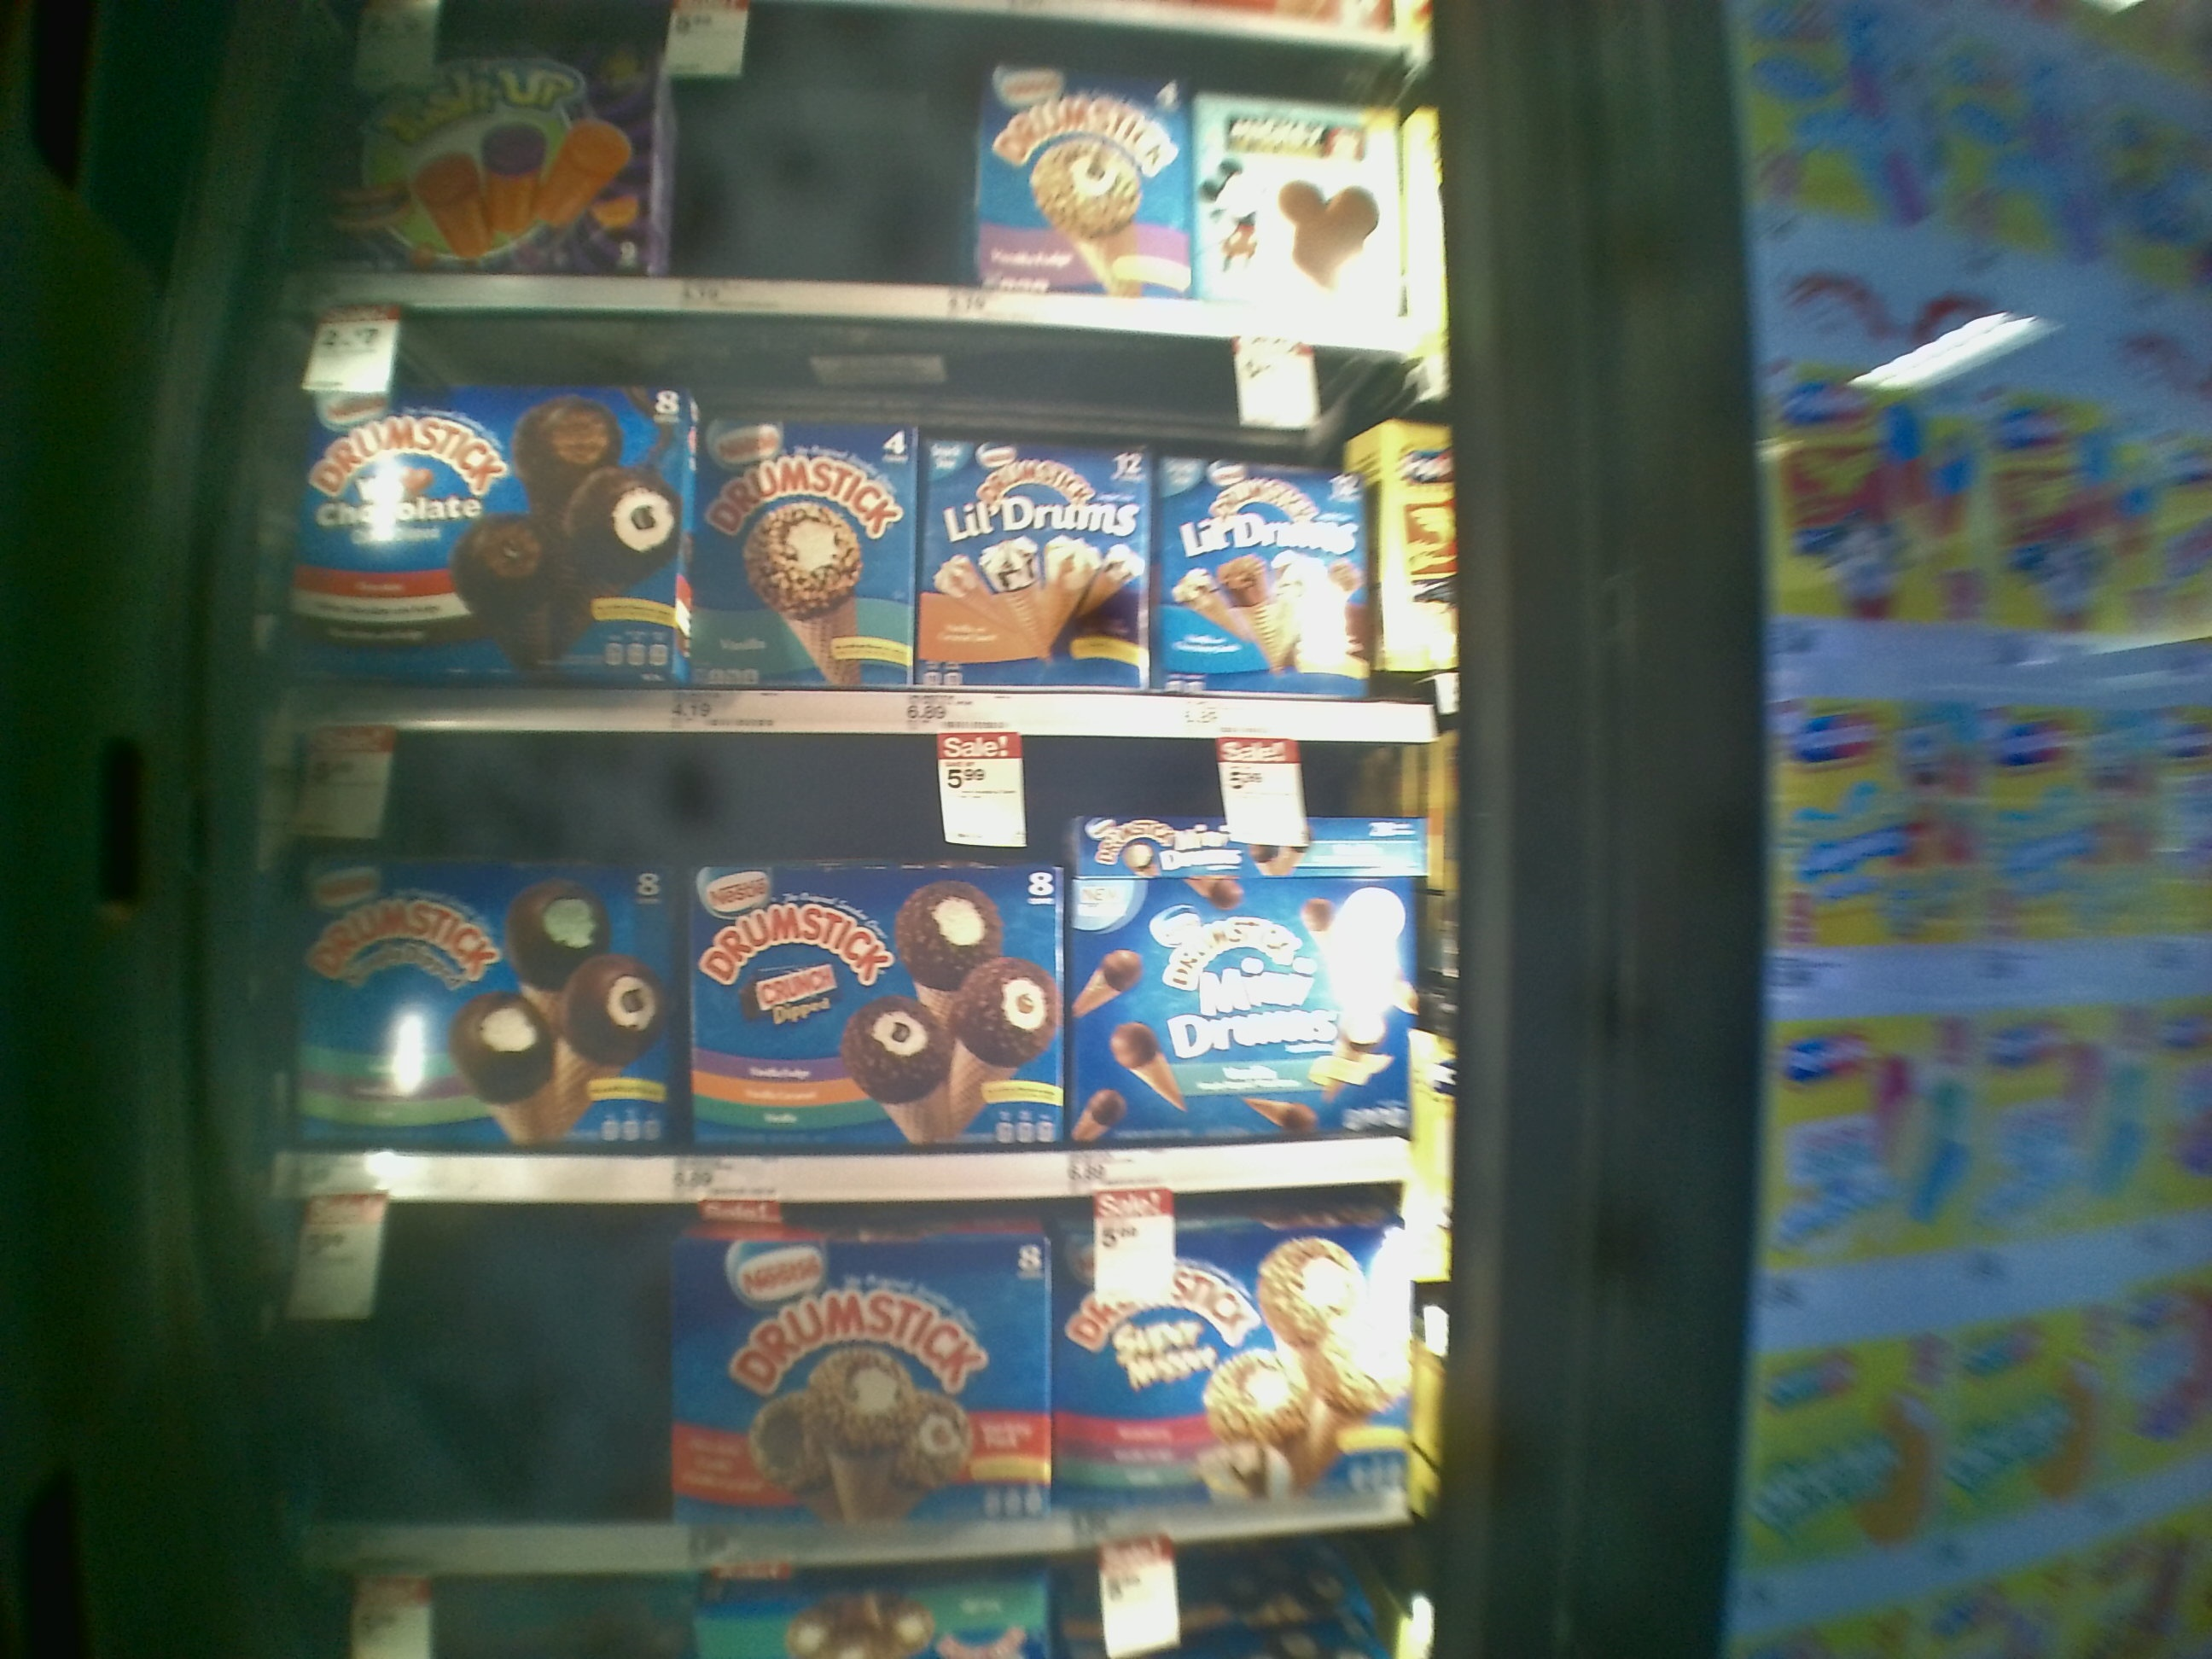shelf: (244, 732, 1486, 1206), (246, 1185, 1465, 1588), (284, 315, 1447, 737)
